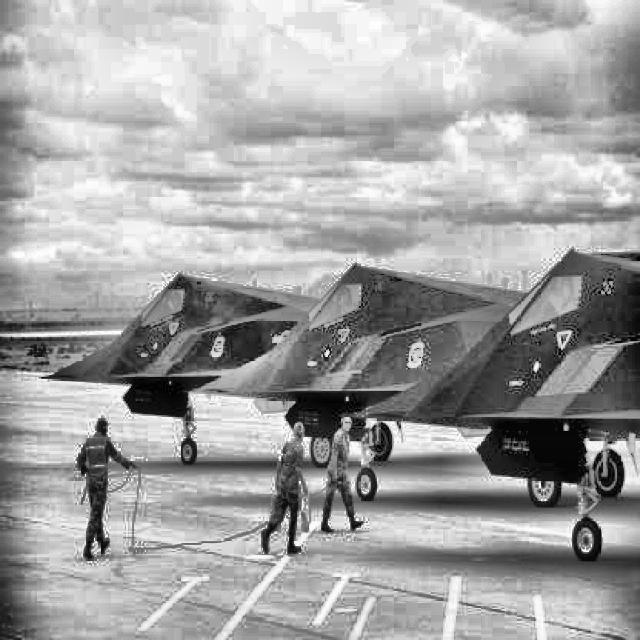F117: (38, 250, 640, 468), (183, 262, 626, 507), (340, 247, 640, 562)
